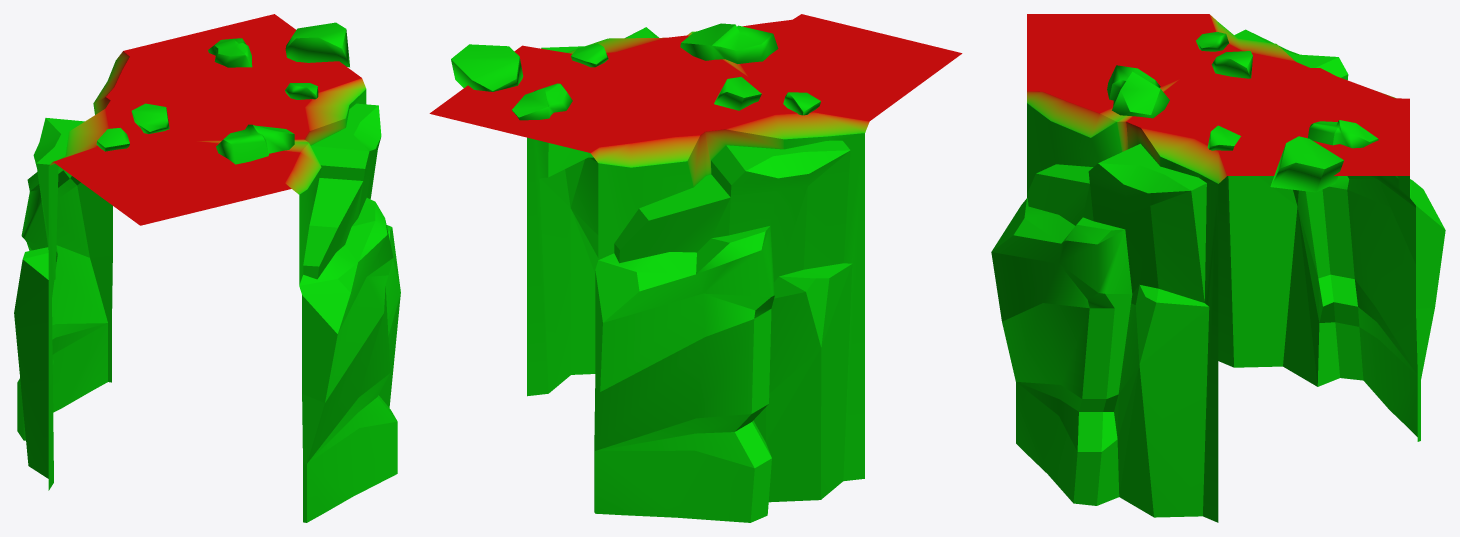
Rendered from Cliff_MergedCorner.fbx.
3 views of the same model, side by side, from view 1: azimuth 30°, elevation 25°; view 2: azimuth 150°, elevation 25°; view 3: azimuth 270°, elevation 25° (orthographic). The views are drawn at different scales.
Visible parts, largest first — view 1: cliff_mergedCorner; view 2: cliff_mergedCorner; view 3: cliff_mergedCorner.
Part boxes in pixels (x1=…): cliff_mergedCorner: x1=14, y1=14, x2=400, y2=522; cliff_mergedCorner: x1=429, y1=14, x2=962, y2=522; cliff_mergedCorner: x1=991, y1=14, x2=1445, y2=522.
Size of the model in its own units: 213 by 237 by 215.
